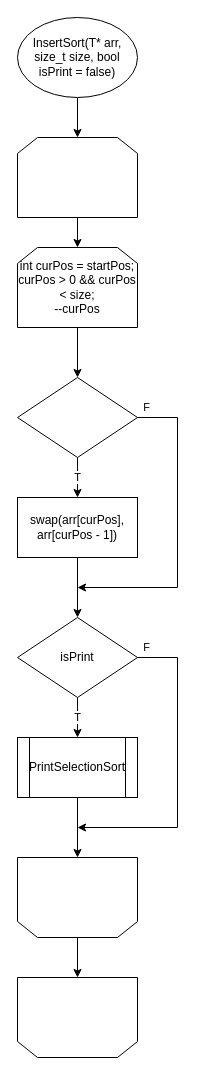
This 203x1075 diagram has some shape labels left out. The box of each missing label's shape, as (x1, y1, x2, y2) in pixels:
arr[curPos] < arr[curPos - 1]: (16, 376, 138, 458)
int startPos = 0; startPos < size; ++startPos: (16, 136, 138, 218)
